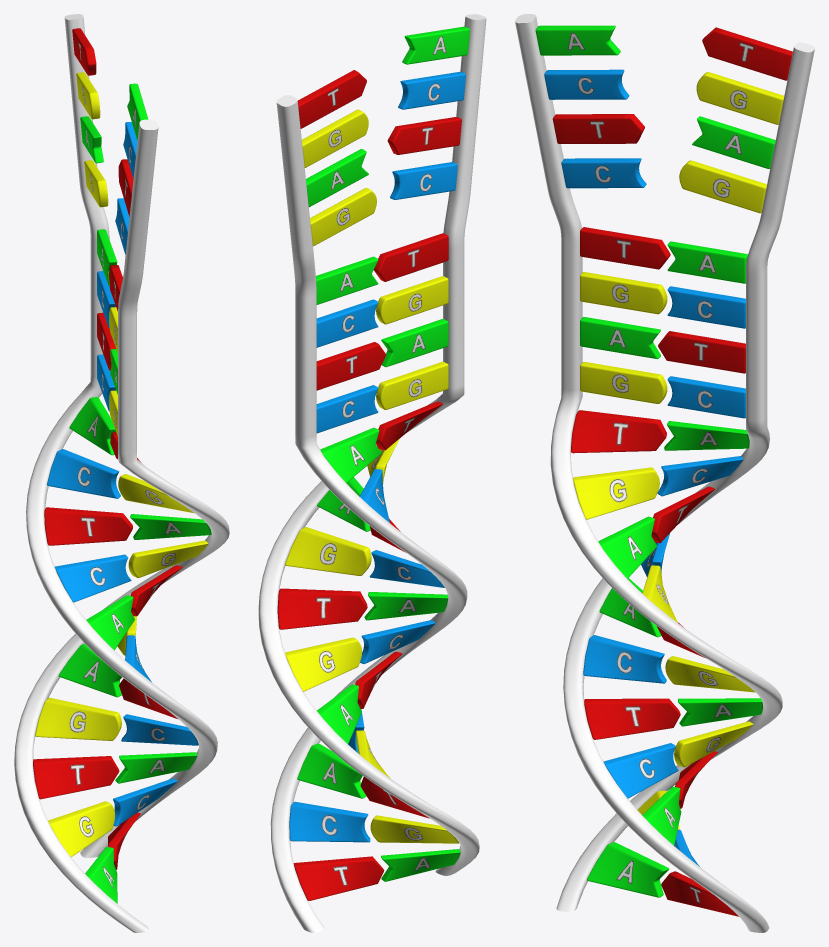
Rendered from DNA.glb.
3 views of the same model, side by side, from view 1: azimuth 30°, elevation 25°; view 2: azimuth 150°, elevation 25°; view 3: azimuth 270°, elevation 25° (orthographic). The views are drawn at different scales.
Parts seen in each view (by area): view 1: Seker_Fosfat_Sol012_07 - Default_0, Seker_Fosfat_Sol012_08 - Default_0, Seker_Fosfat_Sol012_03 - Default_0; view 2: Seker_Fosfat_Sol012_07 - Default_0, Seker_Fosfat_Sol012_03 - Default_0, Seker_Fosfat_Sol012_08 - Default_0; view 3: Seker_Fosfat_Sol012_07 - Default_0, Seker_Fosfat_Sol012_08 - Default_0, Seker_Fosfat_Sol012_03 - Default_0.
Part boxes in pixels (box(x1,y1,x2,y2)): Seker_Fosfat_Sol012_07 - Default_0: box(33, 28, 211, 903); Seker_Fosfat_Sol012_08 - Default_0: box(14, 119, 229, 932); Seker_Fosfat_Sol012_03 - Default_0: box(26, 14, 217, 857); Seker_Fosfat_Sol012_07 - Default_0: box(277, 26, 469, 900); Seker_Fosfat_Sol012_03 - Default_0: box(270, 95, 467, 932); Seker_Fosfat_Sol012_08 - Default_0: box(258, 14, 486, 875); Seker_Fosfat_Sol012_07 - Default_0: box(535, 25, 792, 916); Seker_Fosfat_Sol012_08 - Default_0: box(515, 14, 782, 911); Seker_Fosfat_Sol012_03 - Default_0: box(563, 42, 814, 932).
Size of the model in its own units: 0.117 by 0.4949 by 0.1513.
Materials: 3 (1 with a texture image).
